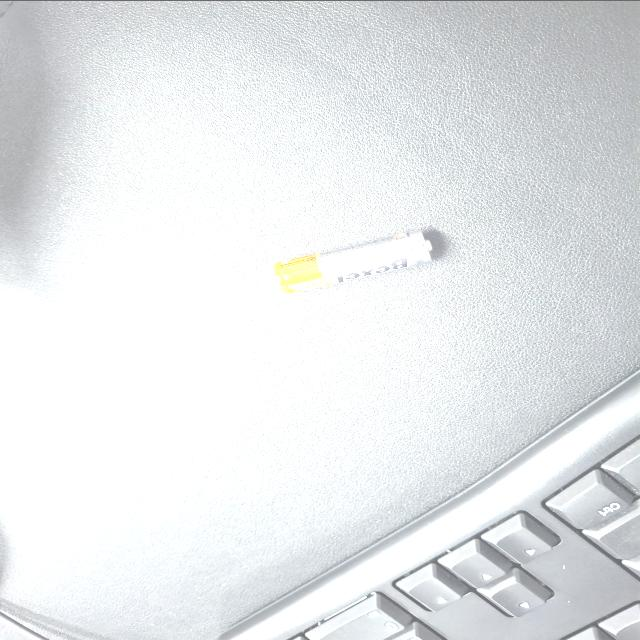AA: (463, 365, 548, 485)
